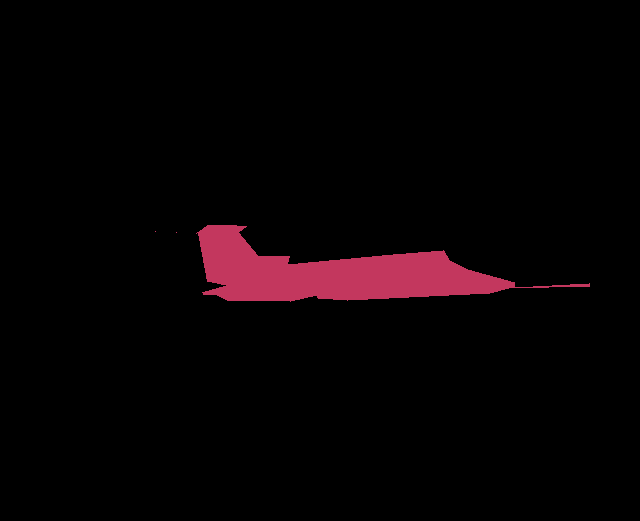Airplane: (155, 225, 589, 302)
